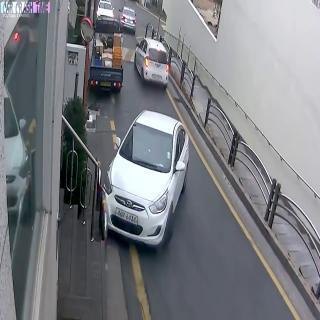single accident: (81, 151, 132, 244)
